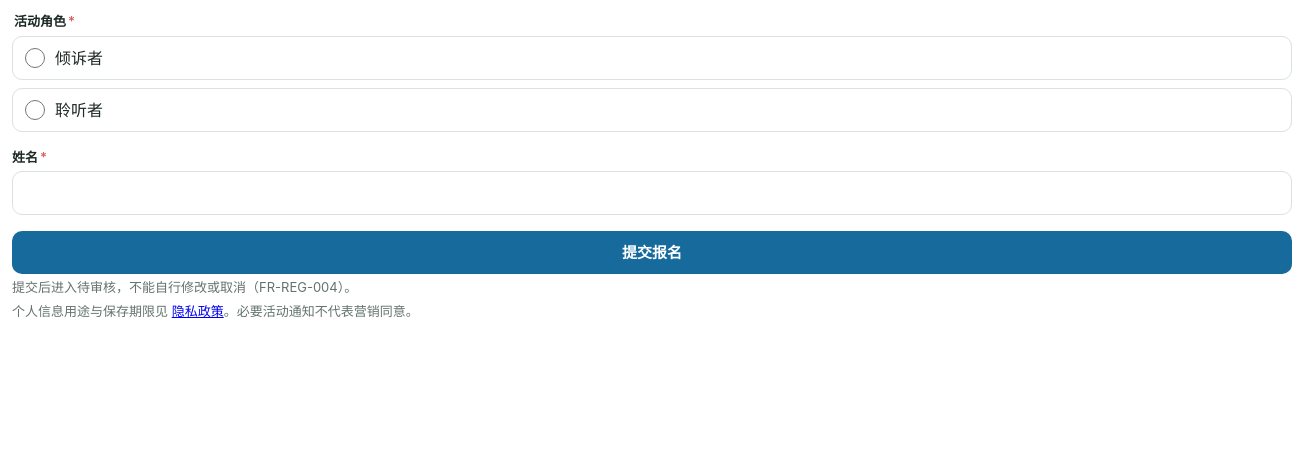
Scenario: RegistrationForm 分角色渲染（role_scope） › 选定聆听者后显示专属字段与分组小标题
Click the radio button labelled "聆听者". click: (35, 110)
box: [25,100,45,120]
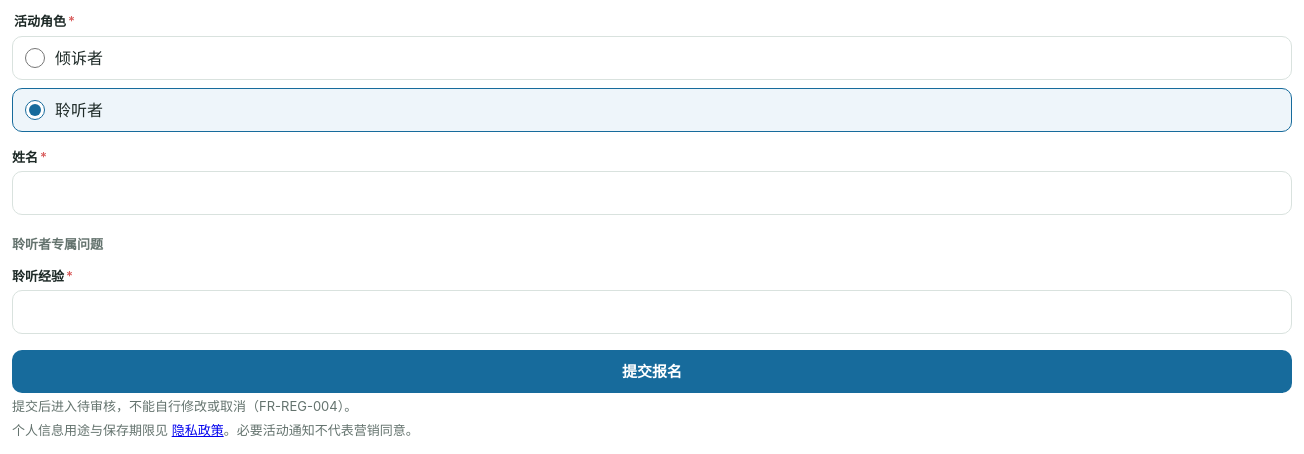
Result: the text "聆听者专属问题" is shown at [12,236,103,252]
Result: the field labelled "聆听经验*" is shown at [12,290,1292,334]
